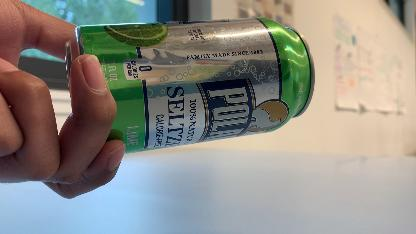Can: (61, 14, 317, 158)
